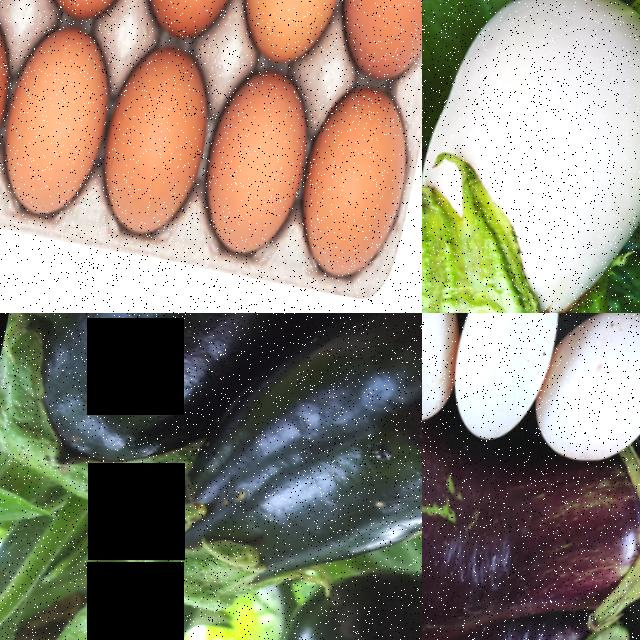egg_: (295, 65, 422, 276), (98, 30, 228, 236), (0, 11, 128, 220), (202, 54, 329, 258), (235, 0, 364, 59), (334, 0, 422, 76), (0, 0, 30, 206)
eggplant: (422, 0, 640, 313), (223, 313, 422, 597), (0, 313, 280, 508), (422, 394, 640, 624), (422, 577, 640, 640)
